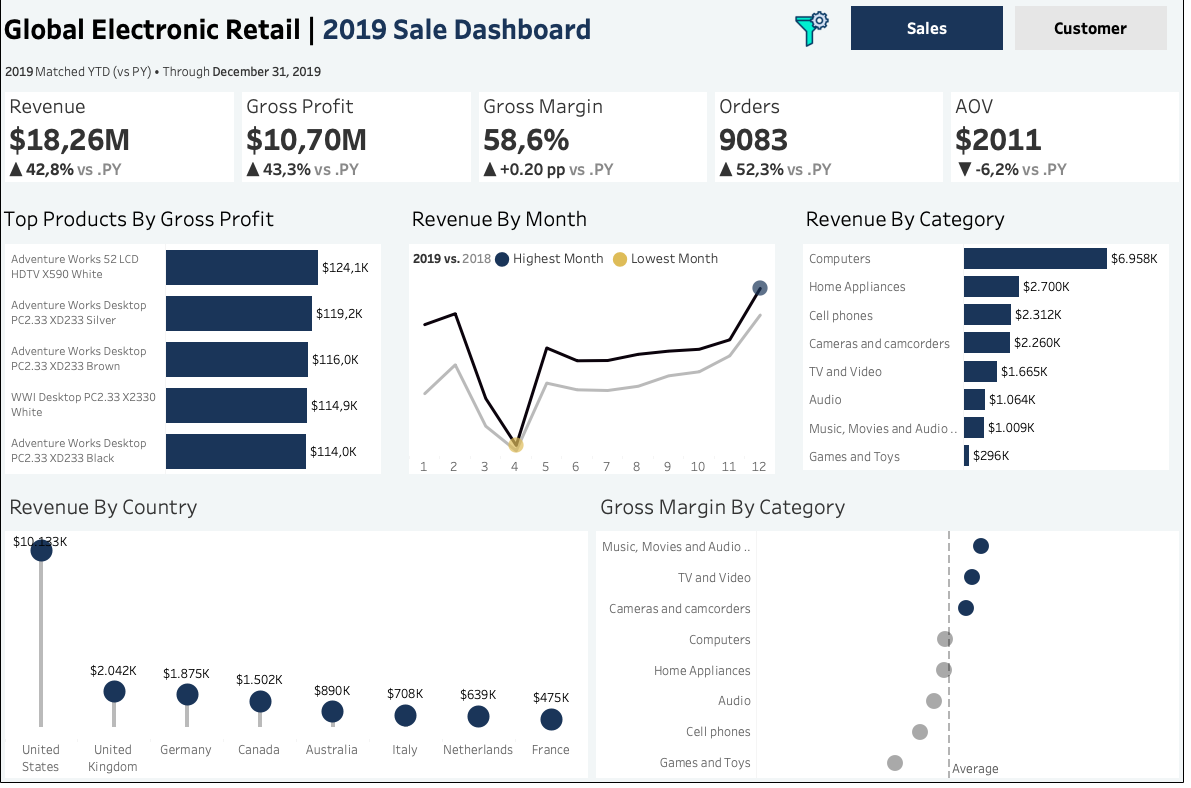

The dashboard page shown, as its layout file describes it:
{"tool":"tableau","page":{"name":"Sale DB","canvas":[1200,800],"ordinal":1},"visuals":[{"type":"text","box":[9,9,844,56]},{"type":"dashboard-object","box":[853,9,164,56]},{"type":"dashboard-object","box":[1017,9,164,56]},{"type":"dashboard-object","box":[799,19.5,43.1,37.8]},{"type":"image","param":"Image/icons8-filter-64.png","box":[1065,20,115,70]},{"type":"worksheet","title":"Sheet 48","mark":"Text","box":[9,65,1182,32]},{"type":"text","box":[1065,90,115,69]},{"type":"worksheet","title":"KPI_Revenue","mark":"Automatic","box":[9,97,237,98]},{"type":"worksheet","title":"KPI_Profit","mark":"Automatic","box":[246,97,237,98]},{"type":"worksheet","title":"KPI_GrossMargin","mark":"Automatic","box":[483,97,236,98]},{"type":"worksheet","title":"KPI_Orders","mark":"Automatic","box":[719,97,236,98]},{"type":"worksheet","title":"KPI_AOV","mark":"Automatic","box":[955,97,236,98]},{"type":"parameter","param":"[Parameters].[Parameter 2]","box":[1065,159,115,69]},{"type":"text","box":[9,205,384,44]},{"type":"text","box":[413,205,374,44]},{"type":"text","box":[807,205,374,44]},{"type":"text","box":[1065,228,115,69]},{"type":"worksheet","title":"Chart_Product","mark":"Automatic","rows":["product_name"],"cols":["Calculation_0643934818902020"],"box":[9,249,384,234]},{"type":"worksheet","title":"Lengend","mark":"Automatic","box":[413,249,374,32]},{"type":"worksheet","title":"Chart_Subcat1","mark":"Automatic","rows":["category"],"cols":["Calculation_0643934818861059"],"box":[807,249,374,234]},{"type":"worksheet","title":"Chart_Revenue","mark":"Line","rows":["Calculation_0288105129246761"],"cols":["Calculation_0288105105039388"],"box":[413,281,374,202]},{"type":"parameter","param":"[Parameters].[Parameter 3]","box":[1065,297,115,69]},{"type":"parameter","param":"[Parameters].[Parameter 1]","box":[1065,366,115,69]},{"type":"text","box":[1065,435,115,69]},{"type":"worksheet","title":"Chart_Country","mark":"Automatic","rows":["Calculation_0643934818861059","Calculation_0643934818861059"],"cols":["country"],"box":[9,493,591,298]},{"type":"worksheet","title":"Chart_Subcat2","mark":"Circle","rows":["category"],"cols":["Calculation_0643934819012613"],"box":[600,493,591,298]},{"type":"filter","title":"Chart_Subcat2","param":"[federated.071u9y41h0wqry1akyews10u2807].[none:category:nk]","box":[1065,504,115,69]},{"type":"text","box":[1065,573,115,69]},{"type":"filter","title":"Chart_Subcat2","param":"[federated.071u9y41h0wqry1akyews10u2807].[none:continent:nk]","box":[1065,642,115,69]},{"type":"filter","title":"Chart_Subcat2","param":"[federated.071u9y41h0wqry1akyews10u2807].[none:country:nk]","box":[1065,711,115,69]}]}

Visuals, with their boxes in screenshot pixels (x1, y1, x2, y2), scaled from the page's 1200x800 canvas onto the 1191x788 screenshot:
text: (9,9,847,64)
dashboard-object: (847,9,1009,64)
dashboard-object: (1009,9,1172,64)
dashboard-object: (793,19,836,56)
image: (1057,20,1171,89)
"Sheet 48" worksheet (Text marks): (9,64,1182,96)
text: (1057,89,1171,157)
"KPI_Revenue" worksheet: (9,96,244,192)
"KPI_Profit" worksheet: (244,96,479,192)
"KPI_GrossMargin" worksheet: (479,96,714,192)
"KPI_Orders" worksheet: (714,96,948,192)
"KPI_AOV" worksheet: (948,96,1182,192)
parameter: (1057,157,1171,225)
text: (9,202,390,245)
text: (410,202,781,245)
text: (801,202,1172,245)
text: (1057,225,1171,293)
"Chart_Product" worksheet: (9,245,390,476)
"Lengend" worksheet: (410,245,781,277)
"Chart_Subcat1" worksheet: (801,245,1172,476)
"Chart_Revenue" worksheet (Line marks): (410,277,781,476)
parameter: (1057,293,1171,361)
parameter: (1057,361,1171,428)
text: (1057,428,1171,496)
"Chart_Country" worksheet: (9,486,596,779)
"Chart_Subcat2" worksheet (Circle marks): (596,486,1182,779)
"Chart_Subcat2" filter: (1057,496,1171,564)
text: (1057,564,1171,632)
"Chart_Subcat2" filter: (1057,632,1171,700)
"Chart_Subcat2" filter: (1057,700,1171,768)
